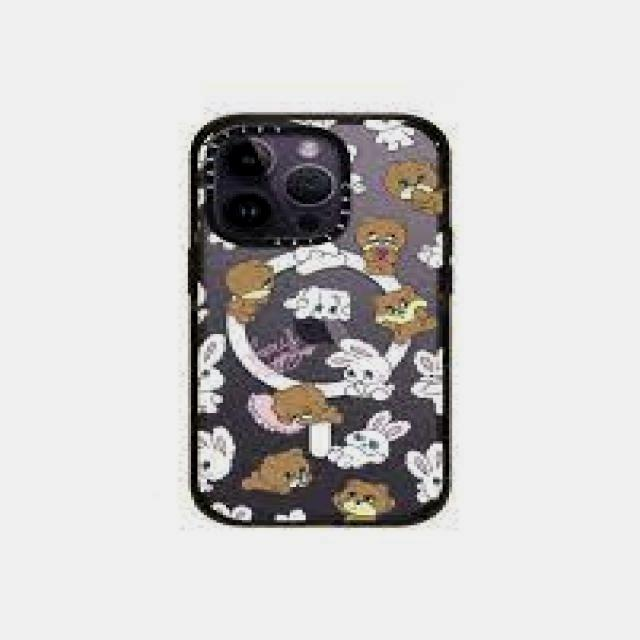lens: (212, 130, 347, 239)
phone: (184, 106, 458, 532)
